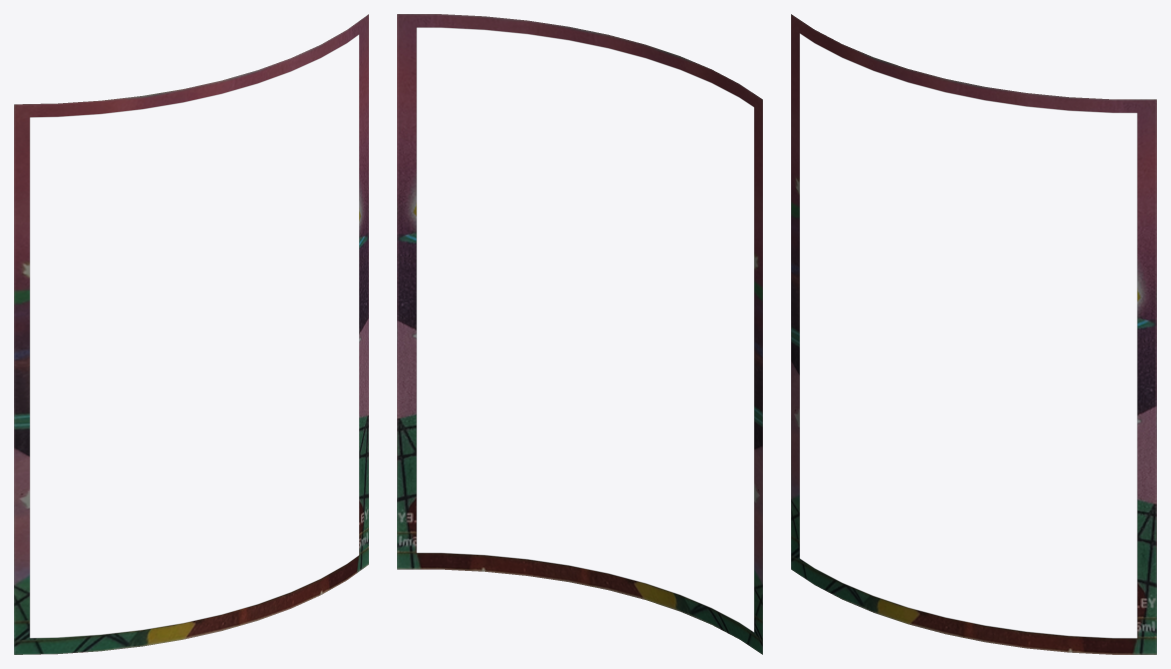
File: Cynthia-BB.glb
3 views of the same model, side by side, from view 1: azimuth 30°, elevation 25°; view 2: azimuth 150°, elevation 25°; view 3: azimuth 330°, elevation 25° (orthographic).
Visible parts, largest first — view 1: 平面; view 2: 平面; view 3: 平面.
Part boxes in pixels (bbox=[...]): 平面: bbox=[14, 14, 368, 654]; 平面: bbox=[397, 14, 762, 654]; 平面: bbox=[791, 14, 1156, 654].
Bounding box in the file's own units: 2.13 × 3.12 × 0.3216.
1 material, 1 textured.
